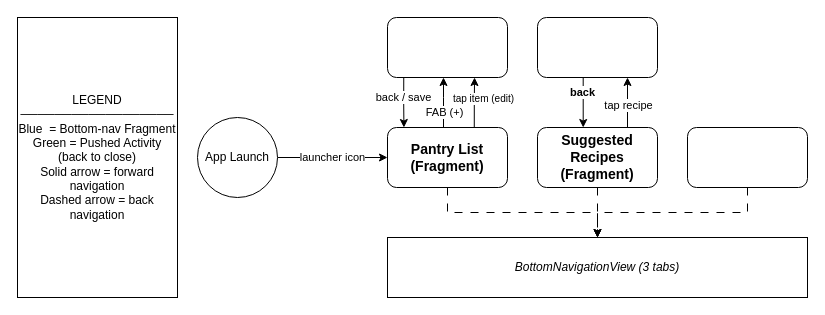
This 825x315 diagram has some shape labels left out. Here are the shapes that lost their labels. From the top down, the centre of each, then its label:
the point at 447,47: Add / Edit Ingredient (Activity)
the point at 597,47: Recipe Detail (Activity)
the point at 747,157: Settings (Fragment)
